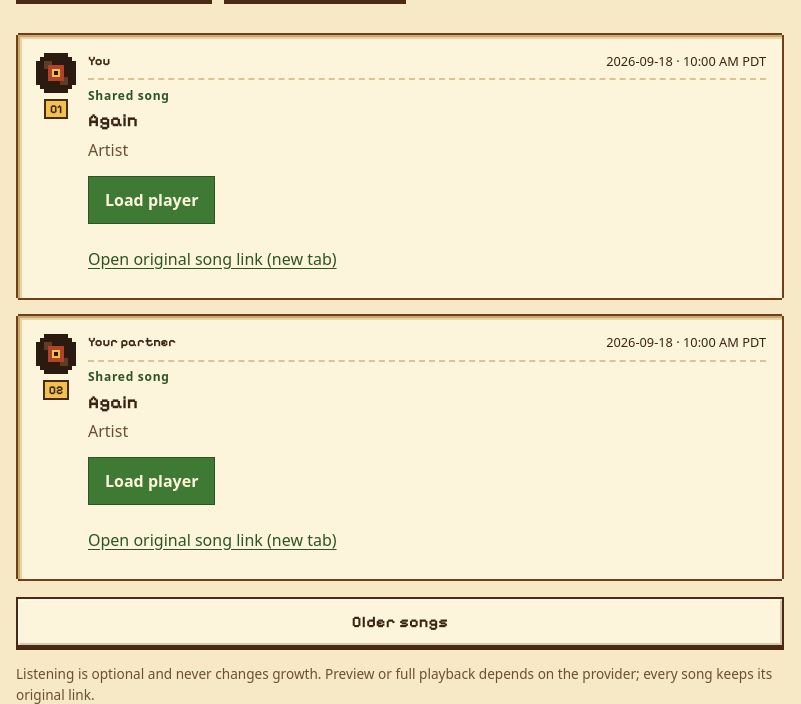
Test: keeps both members' repeat songs, adds older entries and updates existing titles in place
(page scrolled)
Check: the number of headings "Again" is 2, box top-left (88, 110), bottom-right (138, 132); top-left (88, 390), bottom-right (138, 412)
Check: the text "You" is shown, box top-left (88, 51), bottom-right (110, 72)
What coordinates should you click on to do the following:
click the button "Older songs"
I would click on:
 (400, 622)
Its box is top-left (16, 597), bottom-right (784, 647).
(page scrolled)
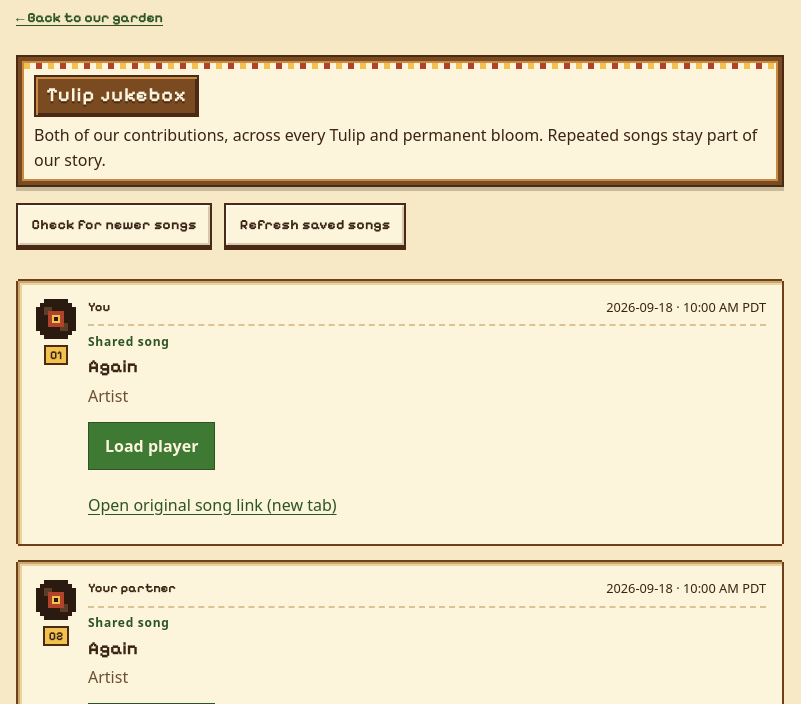
Check: the number of headings "Again" is 3
What coordinates should you click on to do the following:
click the button "Refresh saved songs"
I would click on:
 (315, 225)
Its box is top-left (224, 203), bottom-right (406, 247).
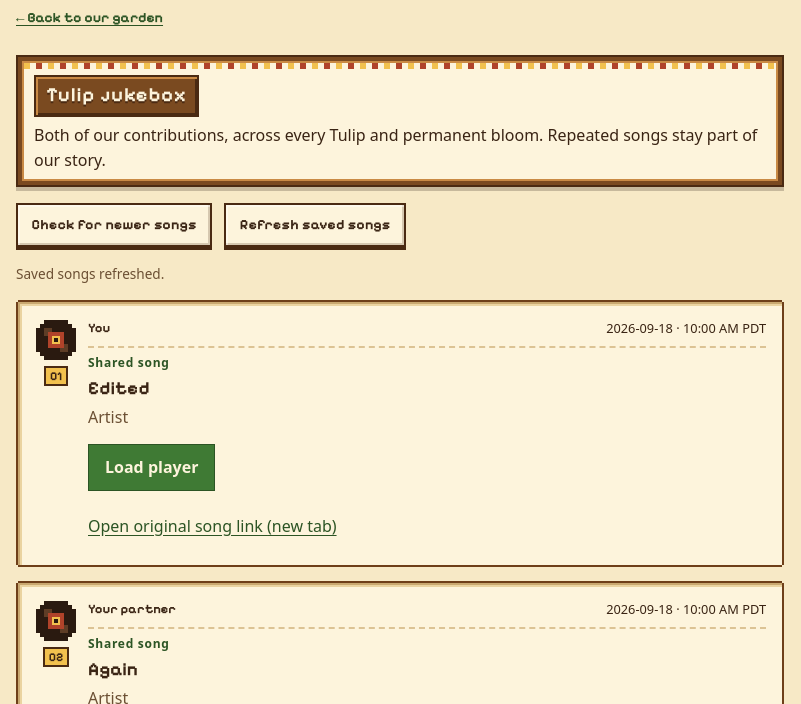
Check: the number of headings "Again" is 2
Check: the heading "Edited" is shown, box top-left (88, 376), bottom-right (150, 398)
